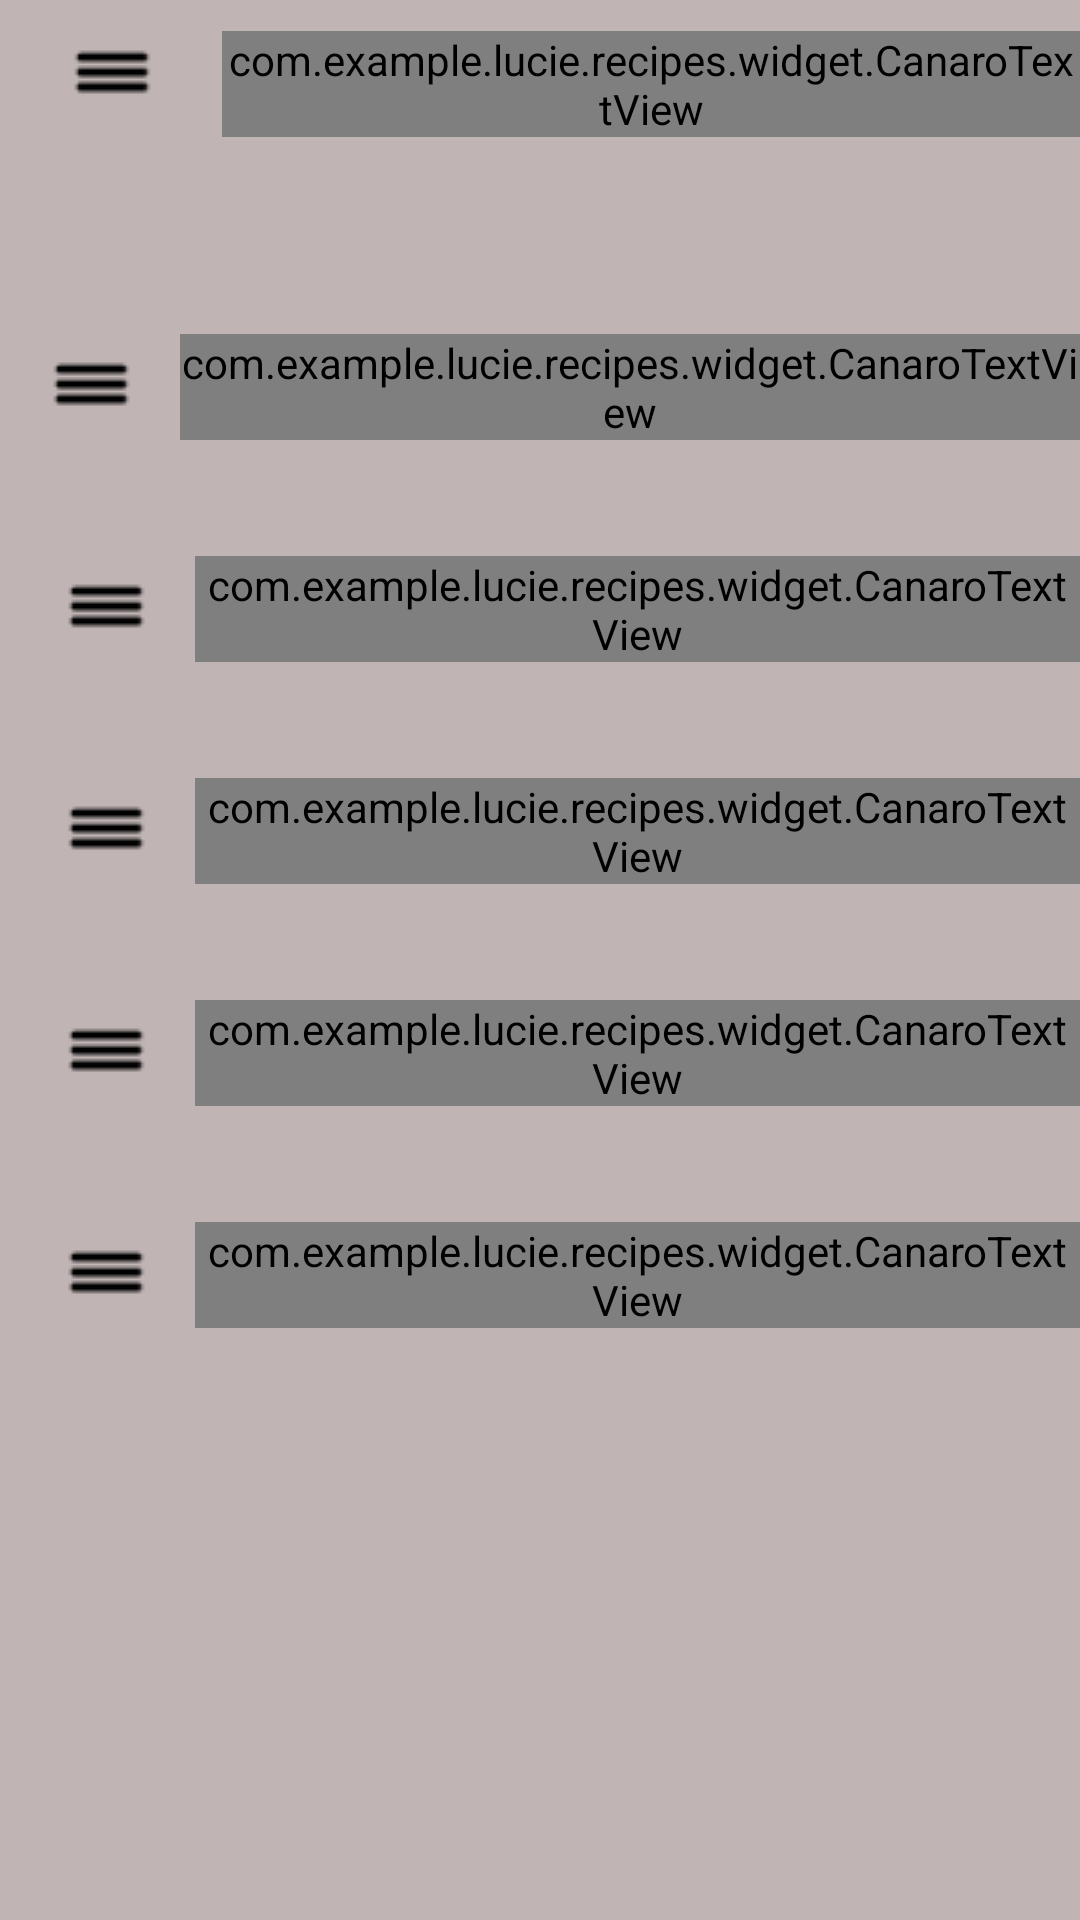

Icon bounding boxes for this 1080×1920 phone screenshot, format {"left": x1, "top": y1, "right": x2, "bottom": y2}:
menu: {"left": 75, "top": 51, "right": 150, "bottom": 94}, {"left": 54, "top": 363, "right": 129, "bottom": 406}, {"left": 69, "top": 585, "right": 144, "bottom": 628}, {"left": 69, "top": 807, "right": 144, "bottom": 850}, {"left": 69, "top": 1029, "right": 144, "bottom": 1072}, {"left": 69, "top": 1251, "right": 144, "bottom": 1294}
